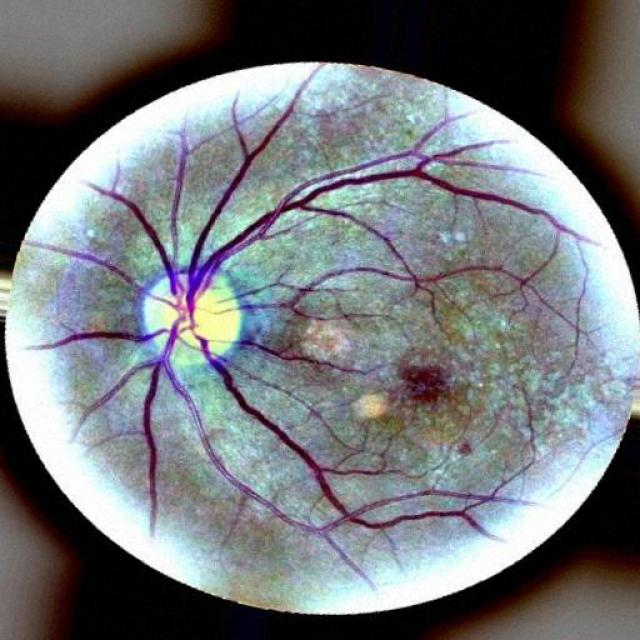Macula: (391, 350, 463, 410)
Nerves: (75, 305, 337, 538), (192, 329, 483, 533), (186, 136, 450, 298), (233, 262, 526, 327)
Optic Disk: (135, 266, 245, 366)
